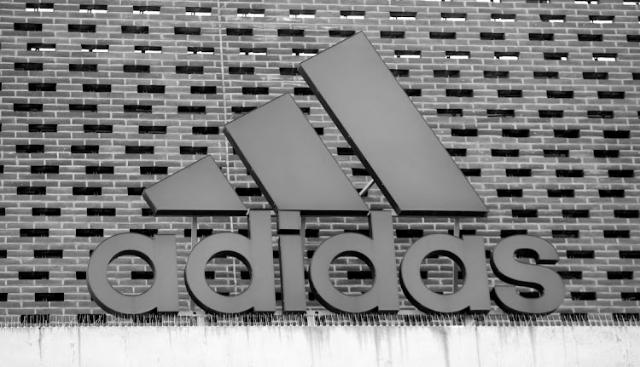Adidas: (72, 24, 574, 334)
